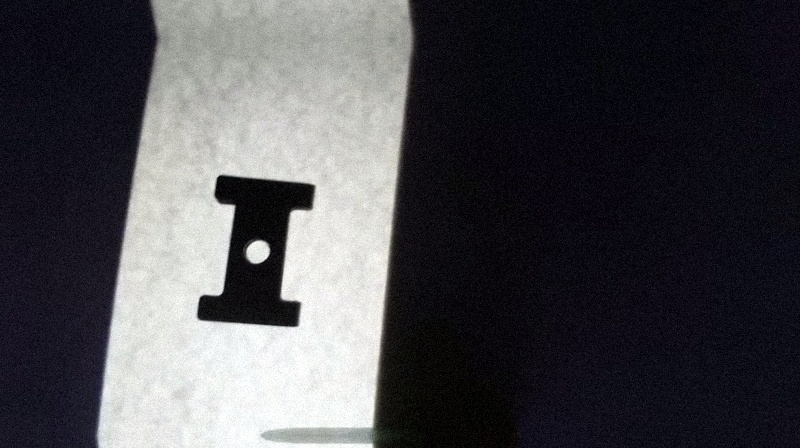O002: (190, 172, 322, 331)
